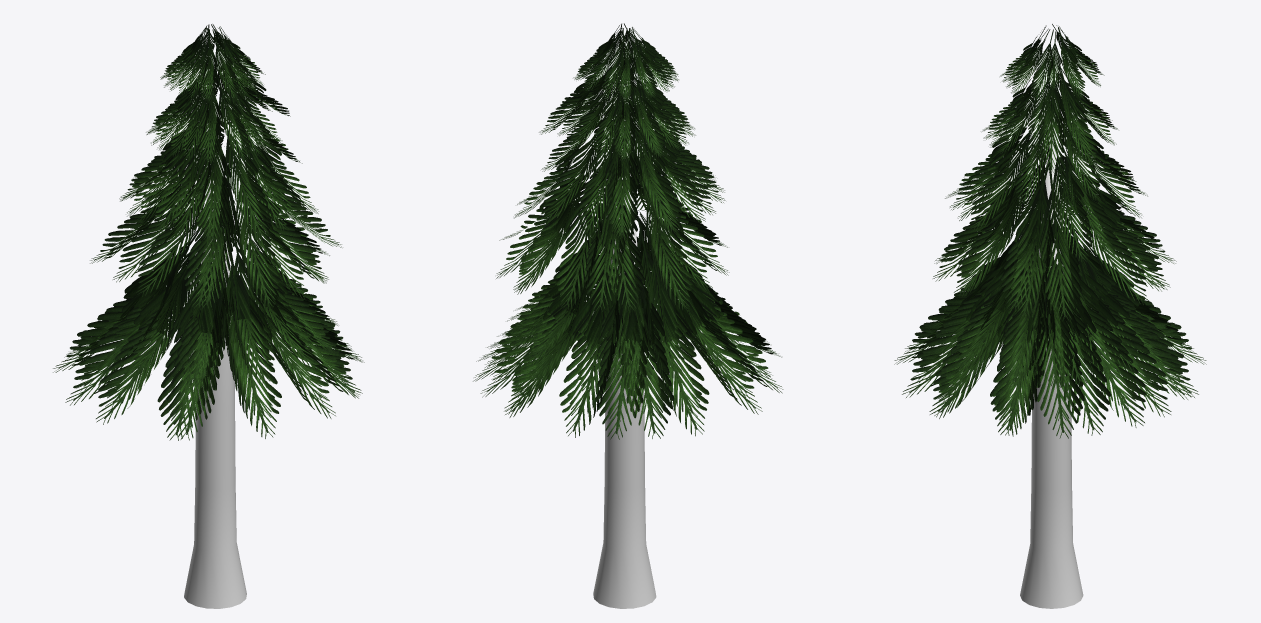
Rendered from projeto arvore prefab 1.fbx.
The picture shows the model from 3 angles, left to right: view 1: azimuth 30°, elevation 25°; view 2: azimuth 150°, elevation 25°; view 3: azimuth 270°, elevation 25°; orthographic projection.
Visible parts, largest first — view 1: Folhas, Pinheiro.405; view 2: Folhas, Pinheiro.405; view 3: Folhas, Pinheiro.405.
Part boxes in pixels (x1,y1,x2,y2): Folhas: (53,24,364,440); Pinheiro.405: (184,105,246,608); Folhas: (473,23,783,439); Pinheiro.405: (593,100,656,608); Folhas: (894,24,1206,438); Pinheiro.405: (1020,122,1083,608).
Size of the model in its own units: 1070 by 1740 by 1074.
Materials: 2 (1 with a texture image).
